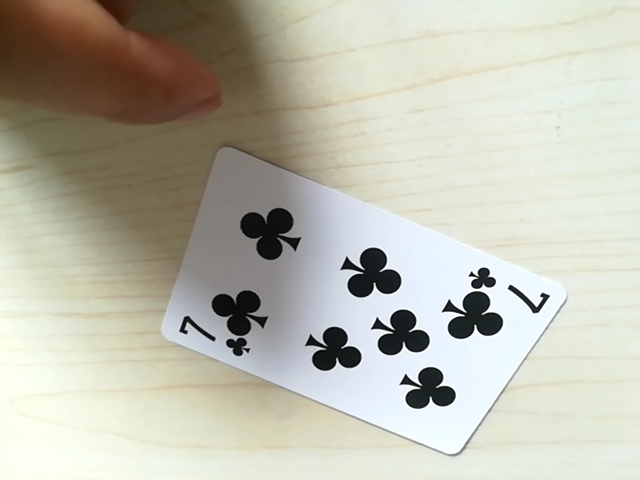mh 7: (172, 303, 252, 359), (476, 265, 544, 304)
